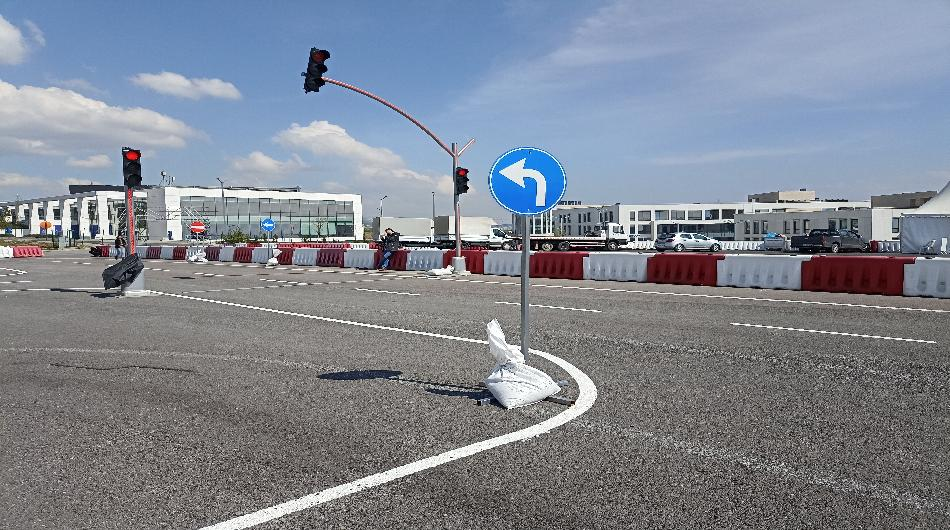girilmez: (186, 222, 208, 233)
red_light: (122, 145, 146, 191)
saga_mecburi_1: (258, 216, 279, 235)
sola_mecburi_2: (490, 146, 568, 213)
